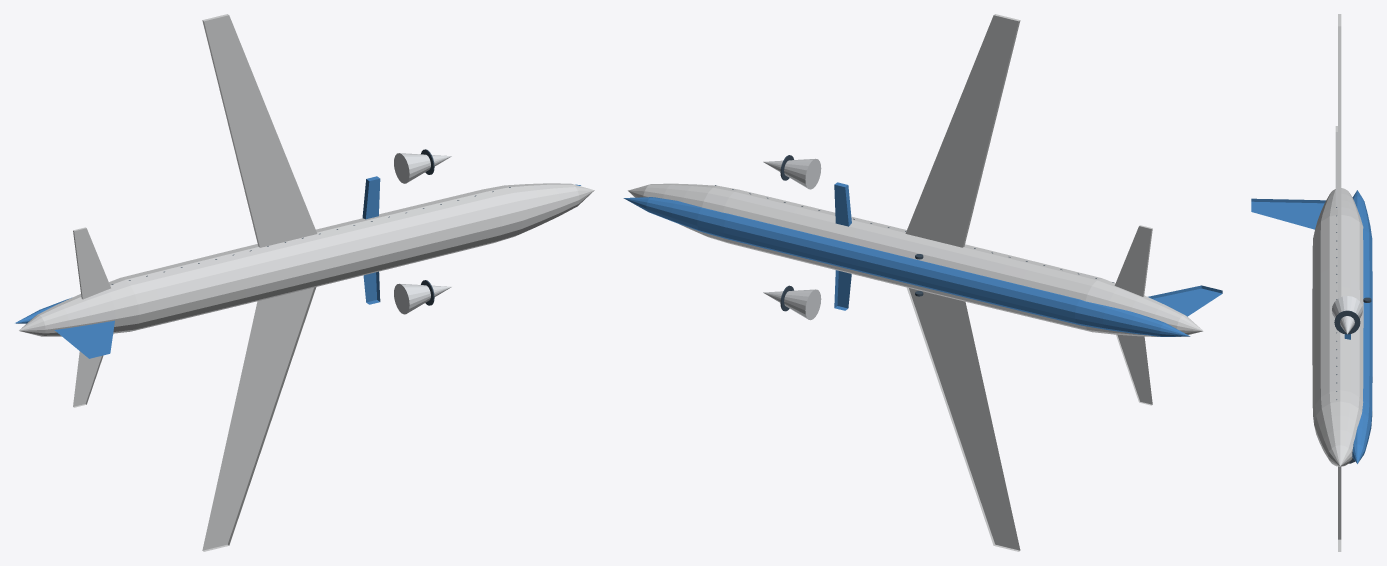
File: boeing_787-10_tracker.glb
3 renders of one model, left to right at view 1: azimuth 30°, elevation 25°; view 2: azimuth 150°, elevation 25°; view 3: azimuth 270°, elevation 25°, orthographic.
Visible parts, largest first — view 1: 787-10_part_0, 787-10_part_2, 787-10_part_4, 787-10_part_7, 787-10_part_8, 787-10_part_12, 787-10_part_9, 787-10_part_6; view 2: 787-10_part_0, 787-10_part_1, 787-10_part_4, 787-10_part_2, 787-10_part_7, 787-10_part_6, 787-10_part_8, 787-10_part_9, 787-10_part_12; view 3: 787-10_part_0, 787-10_part_1, 787-10_part_8, 787-10_part_4, 787-10_part_12, 787-10_part_2, 787-10_part_13, 787-10_part_7.
Boxes of the visible parts, <box> form: 787-10_part_0: <box>19,183,594,336</box>; 787-10_part_2: <box>202,287,316,551</box>; 787-10_part_4: <box>202,14,317,247</box>; 787-10_part_7: <box>73,227,110,299</box>; 787-10_part_8: <box>54,320,114,358</box>; 787-10_part_12: <box>394,153,451,183</box>; 787-10_part_9: <box>394,283,451,314</box>; 787-10_part_6: <box>73,351,103,407</box>; 787-10_part_0: <box>628,183,1203,336</box>; 787-10_part_1: <box>623,197,1190,336</box>; 787-10_part_4: <box>905,14,1020,247</box>; 787-10_part_2: <box>907,287,1020,551</box>; 787-10_part_7: <box>1114,225,1152,296</box>; 787-10_part_6: <box>1116,334,1152,405</box>; 787-10_part_8: <box>1148,285,1222,316</box>; 787-10_part_9: <box>763,289,821,320</box>; 787-10_part_12: <box>763,158,821,189</box>; 787-10_part_0: <box>1312,188,1363,466</box>; 787-10_part_1: <box>1352,190,1372,463</box>; 787-10_part_8: <box>1251,198,1325,229</box>; 787-10_part_4: <box>1338,14,1341,298</box>; 787-10_part_12: <box>1332,296,1362,334</box>; 787-10_part_2: <box>1338,466,1341,551</box>; 787-10_part_13: <box>1334,310,1360,334</box>; 787-10_part_7: <box>1335,126,1337,209</box>.
Size of the model in its own units: 68.3 by 60.1 by 12.56.
